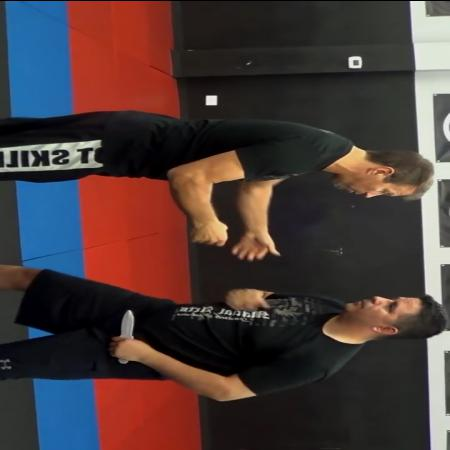long weapon: (109, 306, 141, 367)
